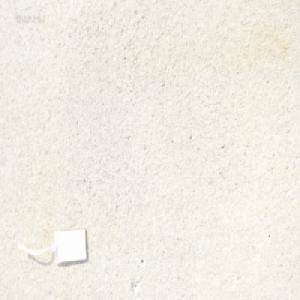LuggageTag: (16, 225, 89, 268)
